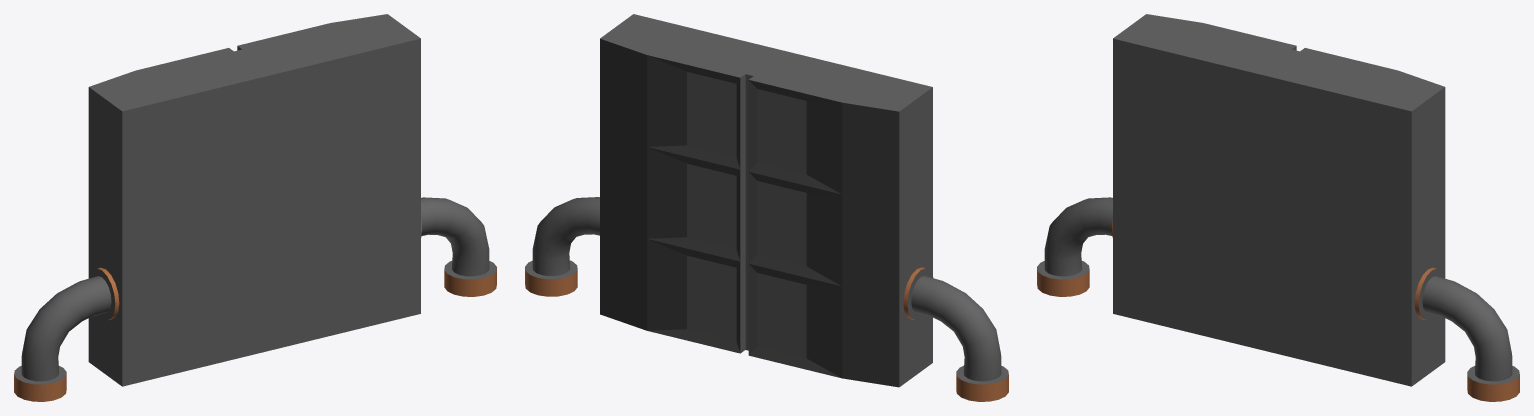
Rendered from SM_Pipe_BOARD_B.fbx.
The picture shows the model from 3 angles, left to right: view 1: azimuth 30°, elevation 25°; view 2: azimuth 150°, elevation 25°; view 3: azimuth 330°, elevation 25°; orthographic projection.
Visible parts, largest first — view 1: SM_Pipe_BOARD_B; view 2: SM_Pipe_BOARD_B; view 3: SM_Pipe_BOARD_B.
Part boxes in pixels (x1,y1,x2,y2): SM_Pipe_BOARD_B: (14,14,496,401); SM_Pipe_BOARD_B: (525,14,1008,401); SM_Pipe_BOARD_B: (1037,14,1519,401).
Size of the model in its own units: 7.24 by 4 by 1.02.
